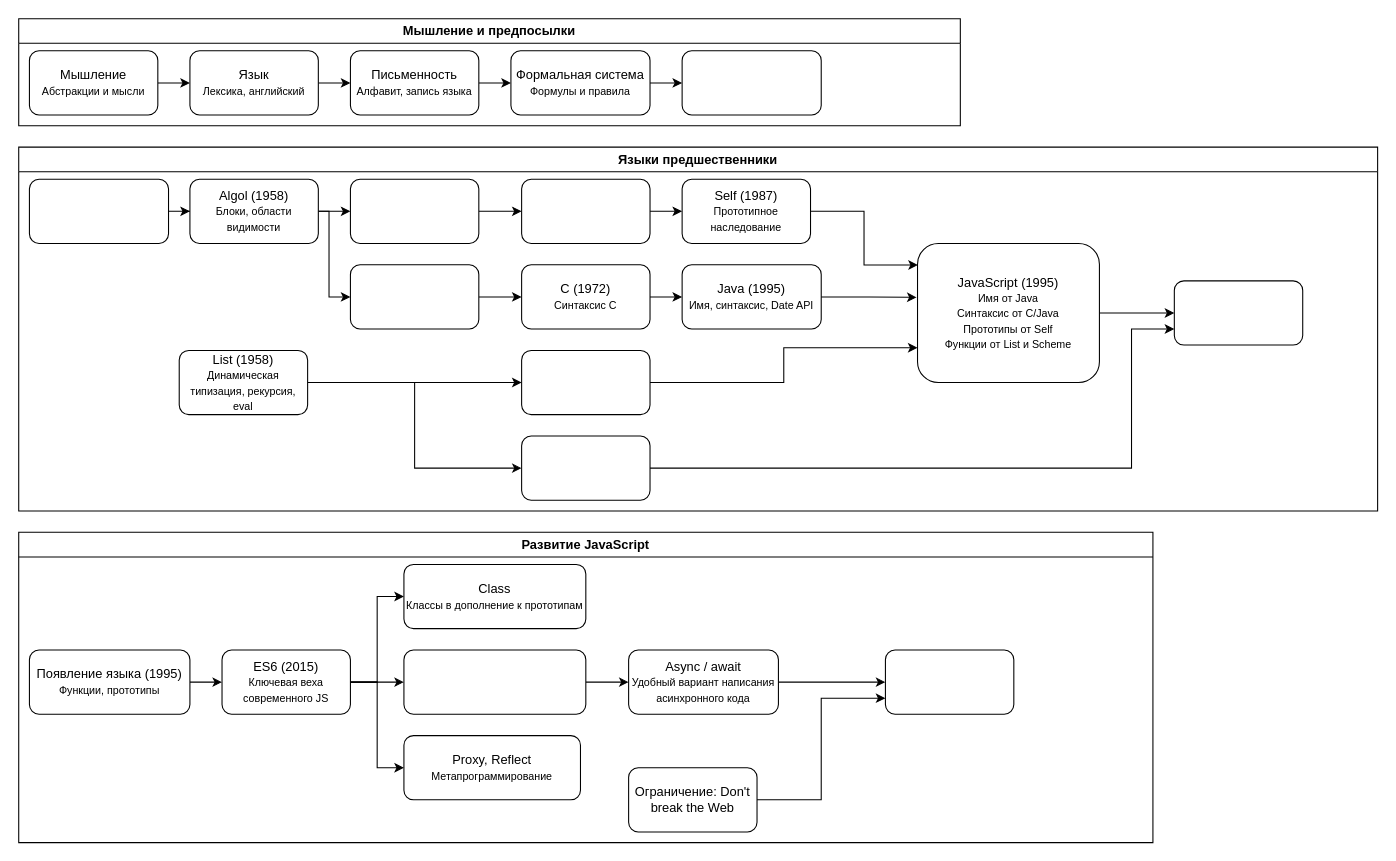
Some shapes in this 1396 by 861 pixel diagram are drawn without their labels. Each missing label, with the centre of its shape:
"BCPL (1967) Фигурные скобки" belongs at (414,296).
"Fortran (1957) Первый высокоуровневый язык" belongs at (98,210).
"ML (1973) Параметрический полиморфизм, алгебраические типы" belongs at (585,467).
"Promise Выполнение асинхронных операций, цепочки выполнения" belongs at (494,681).
"Scheme (1975) Замыкания, область видимости" belongs at (585,382).
"Simula (1967) Классы, объекты" belongs at (414,210).
"Smalltalk (1980) ООП" belongs at (585,210).
"TypeScript (2012) Статические типы" belongs at (1238,312).
"λ-исчисление Абстракция и аппликация" belongs at (751,82).
"Современный JavaScript" belongs at (949,681).
